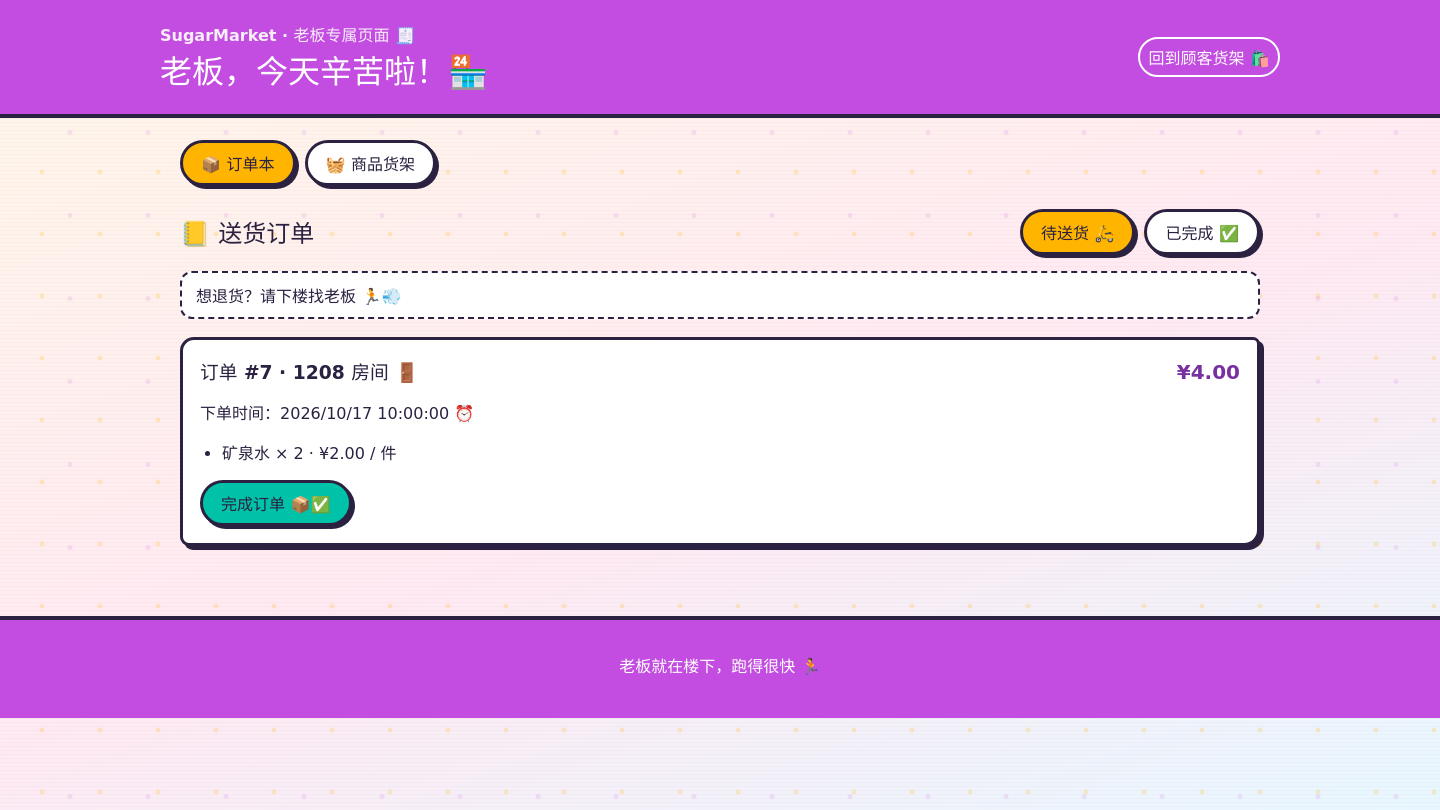
Test case: shopkeeper back-office › confirms delivery before sending an order completion request
This screenshot has width=1440, height=810.
expect the heading "订单 #7 · 1208 房间 🚪" is shown: met, box [200,357,419,384]
Click the button "完成订单 📦✅".
click(276, 503)  # box [200,480,352,526]
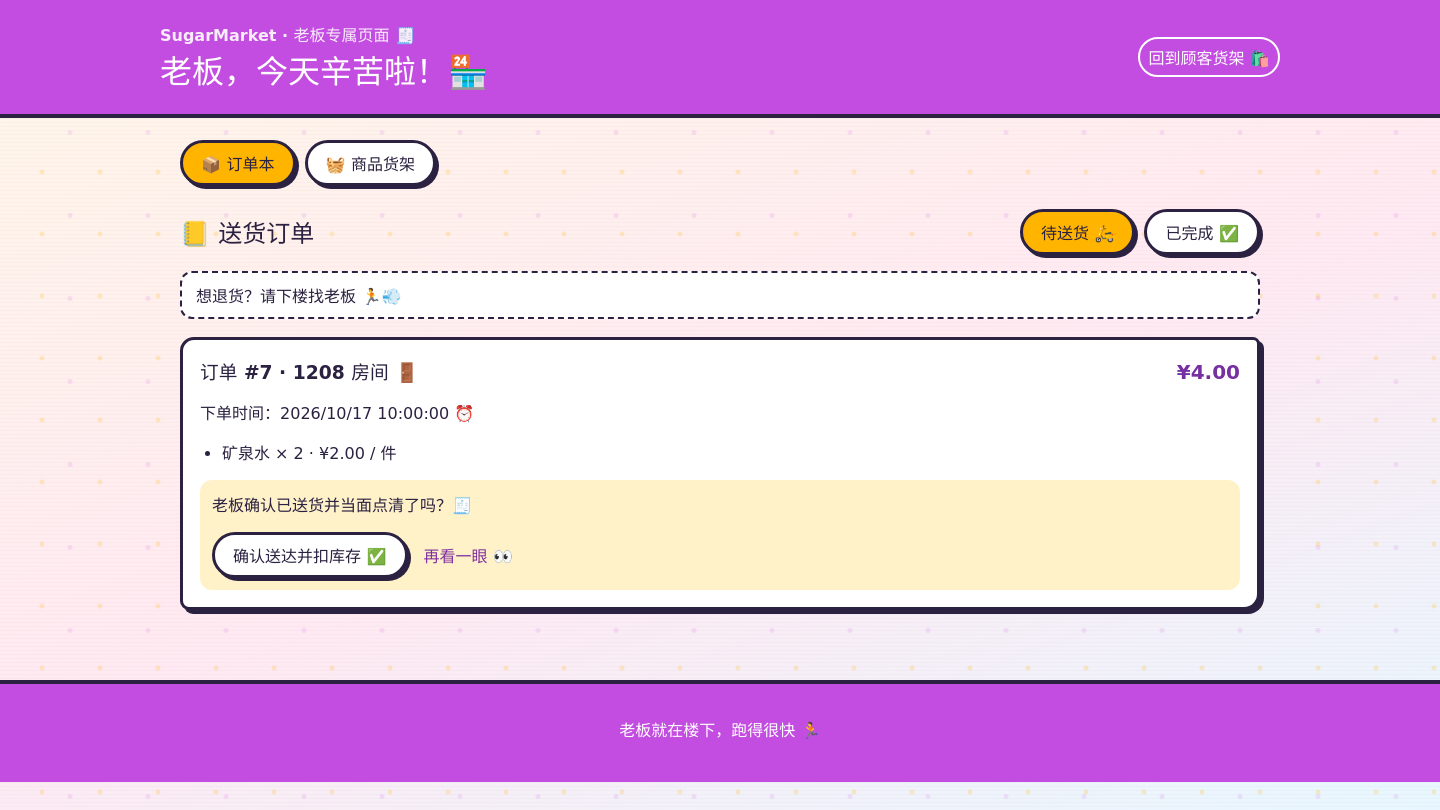
expect the text "老板确认已送货并当面点清了吗？🧾" is shown: met, box [212,496,472,515]
Click the button "确认送达并扣库存 ✅".
click(310, 555)  # box [212,532,408,578]
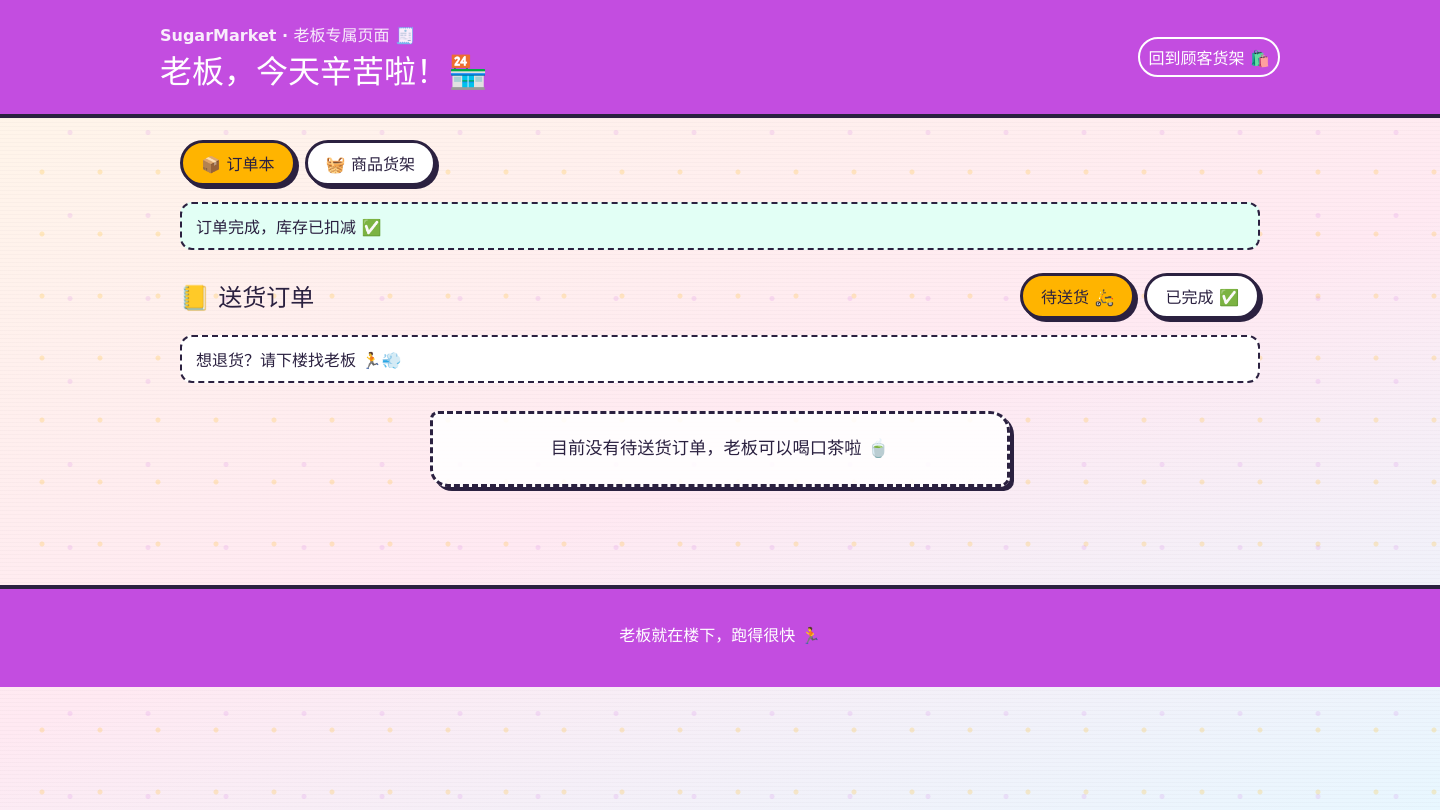
expect the text "订单完成，库存已扣减 ✅" is shown: met, box [180,202,1260,250]
expect the heading "订单 #7 · 1208 房间 🚪" is gone: met
